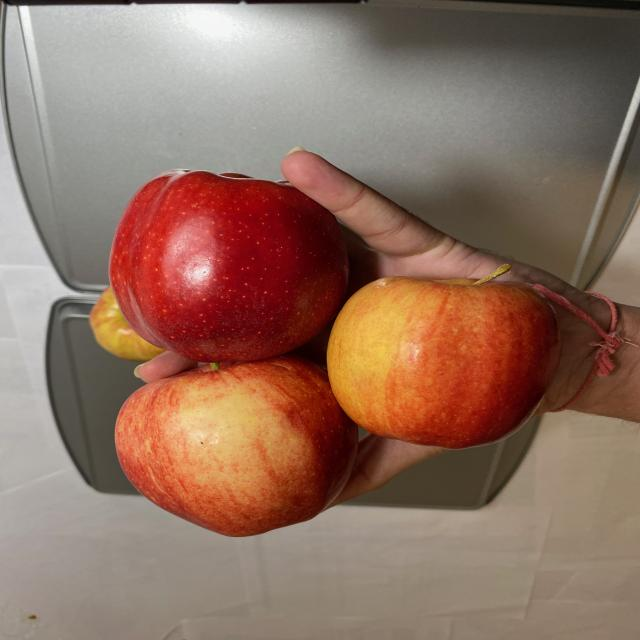apple: (87, 168, 570, 540)
